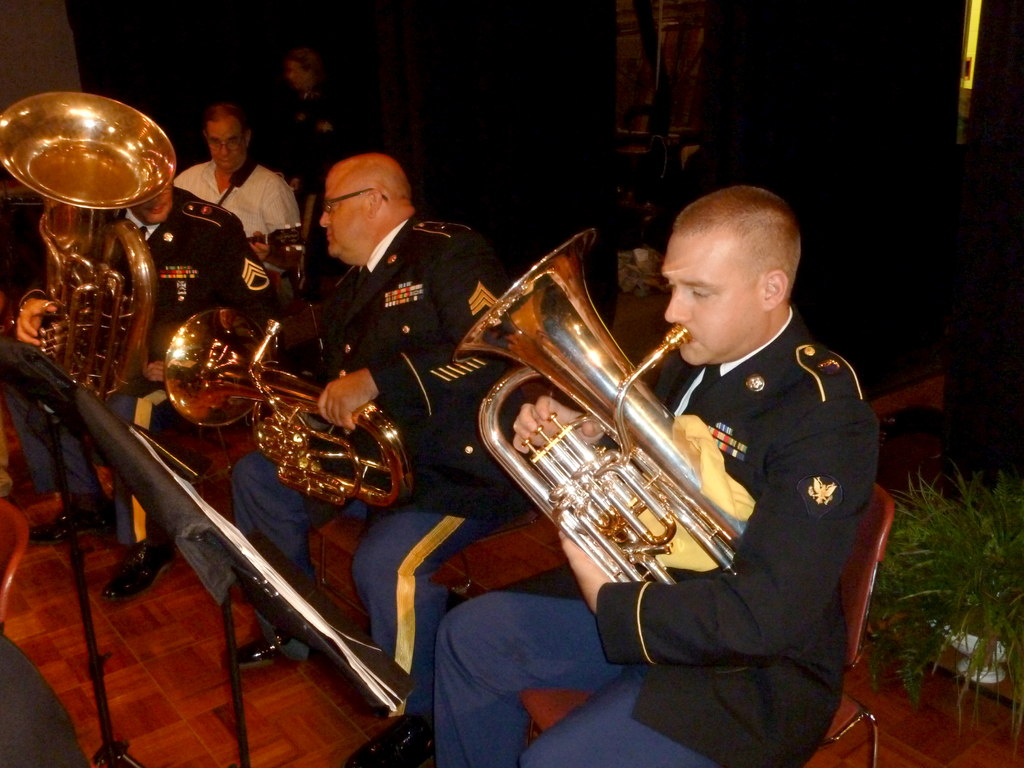Person: (431, 184, 881, 768), (218, 151, 537, 768), (0, 174, 286, 601), (170, 100, 299, 237), (278, 45, 360, 155)
